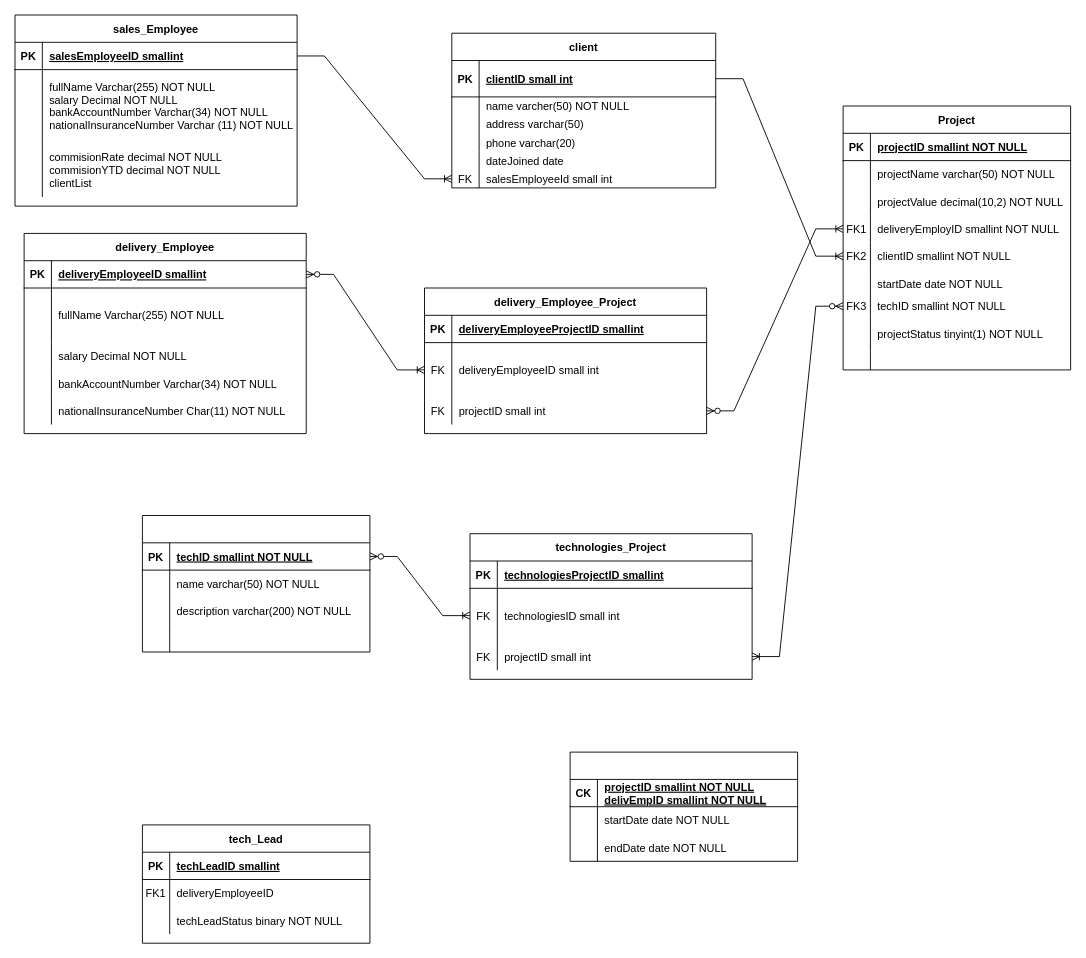
This 1086x958 diagram has some shape labels left out. The box of each missing label's shape, as (x1, y1, x2, y2) in pixels:
Project_History: (569, 751, 798, 861)
Technologies: (142, 515, 370, 652)
